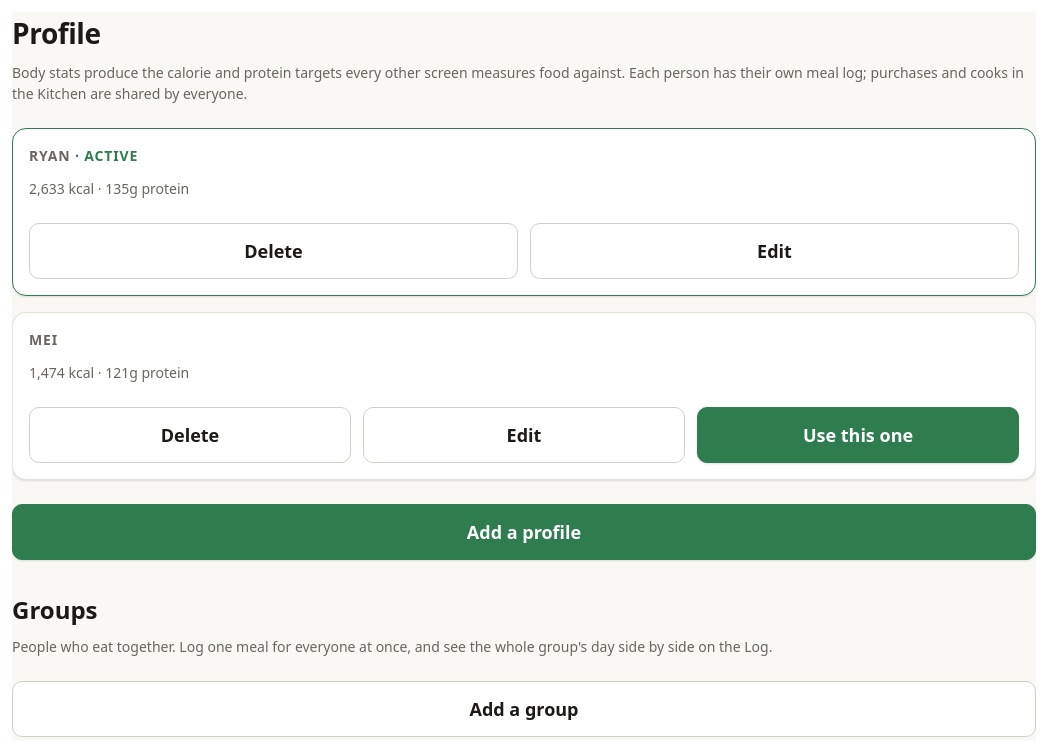
Scenario: ProfileScreen deleting › shows a failed delete as the only alert, and keeps the profile listed
Click the button "Delete" below "1,474".
click(190, 435)  # box 29,407 -> 351,463
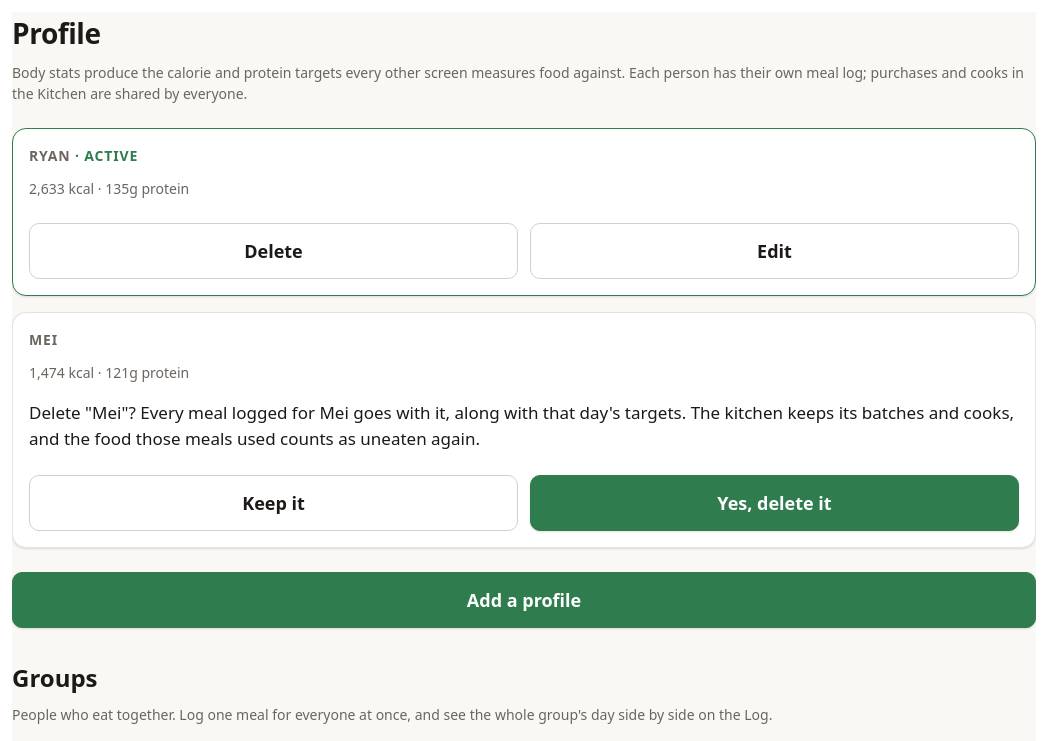
Click the button "Yes, delete it".
click(774, 503)  # box 530,475 -> 1019,531
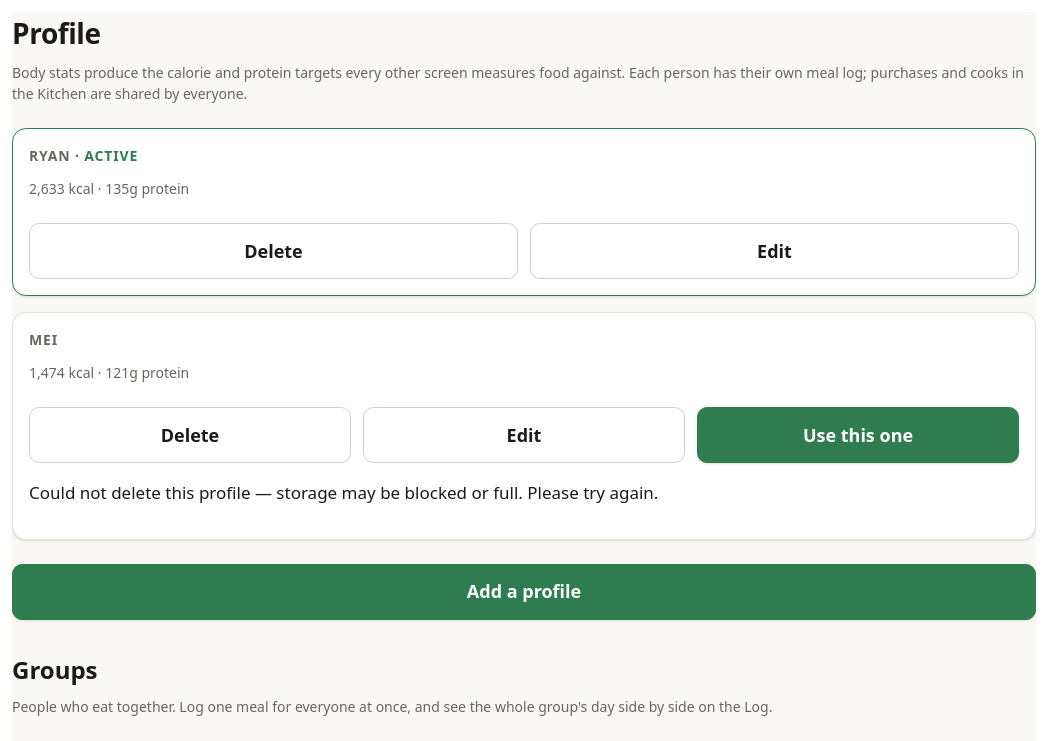
Expected: the element with test id "profile-p2" is shown, 12,312 -> 1036,540
Expected: the message shows "Could not delete", 29,481 -> 658,504
